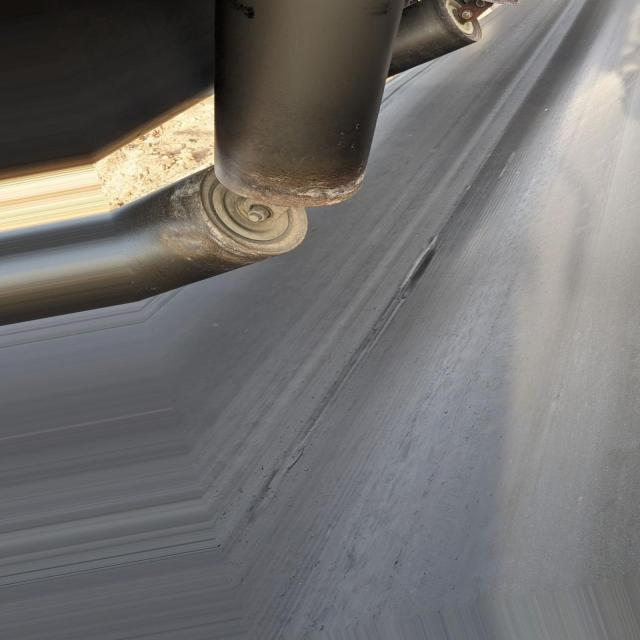Roller: (209, 0, 404, 207), (118, 167, 309, 303), (389, 2, 482, 75)
impact damage: (393, 248, 438, 304)
